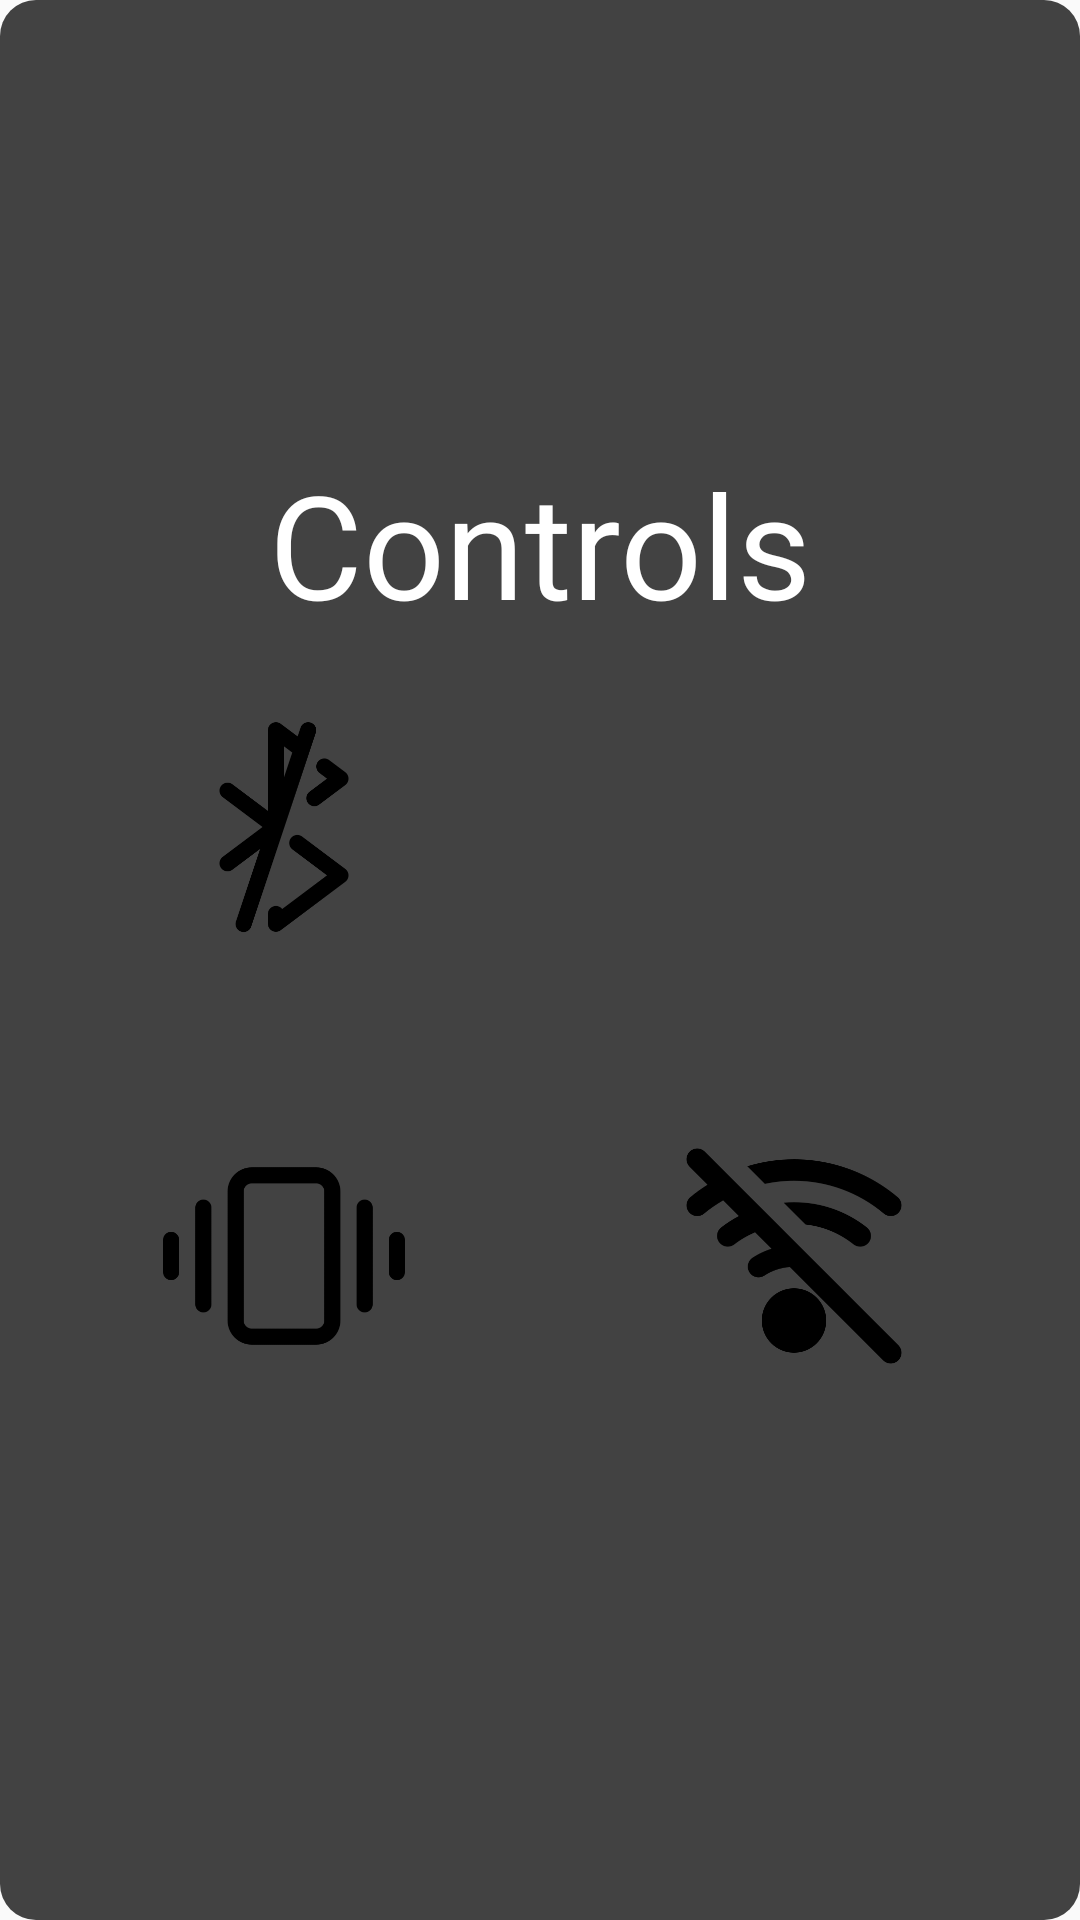

Point at icon controls on the screen. Image size 1080*1920, points as (x=x, y=y).
nowifi: (x=794, y=1256)
